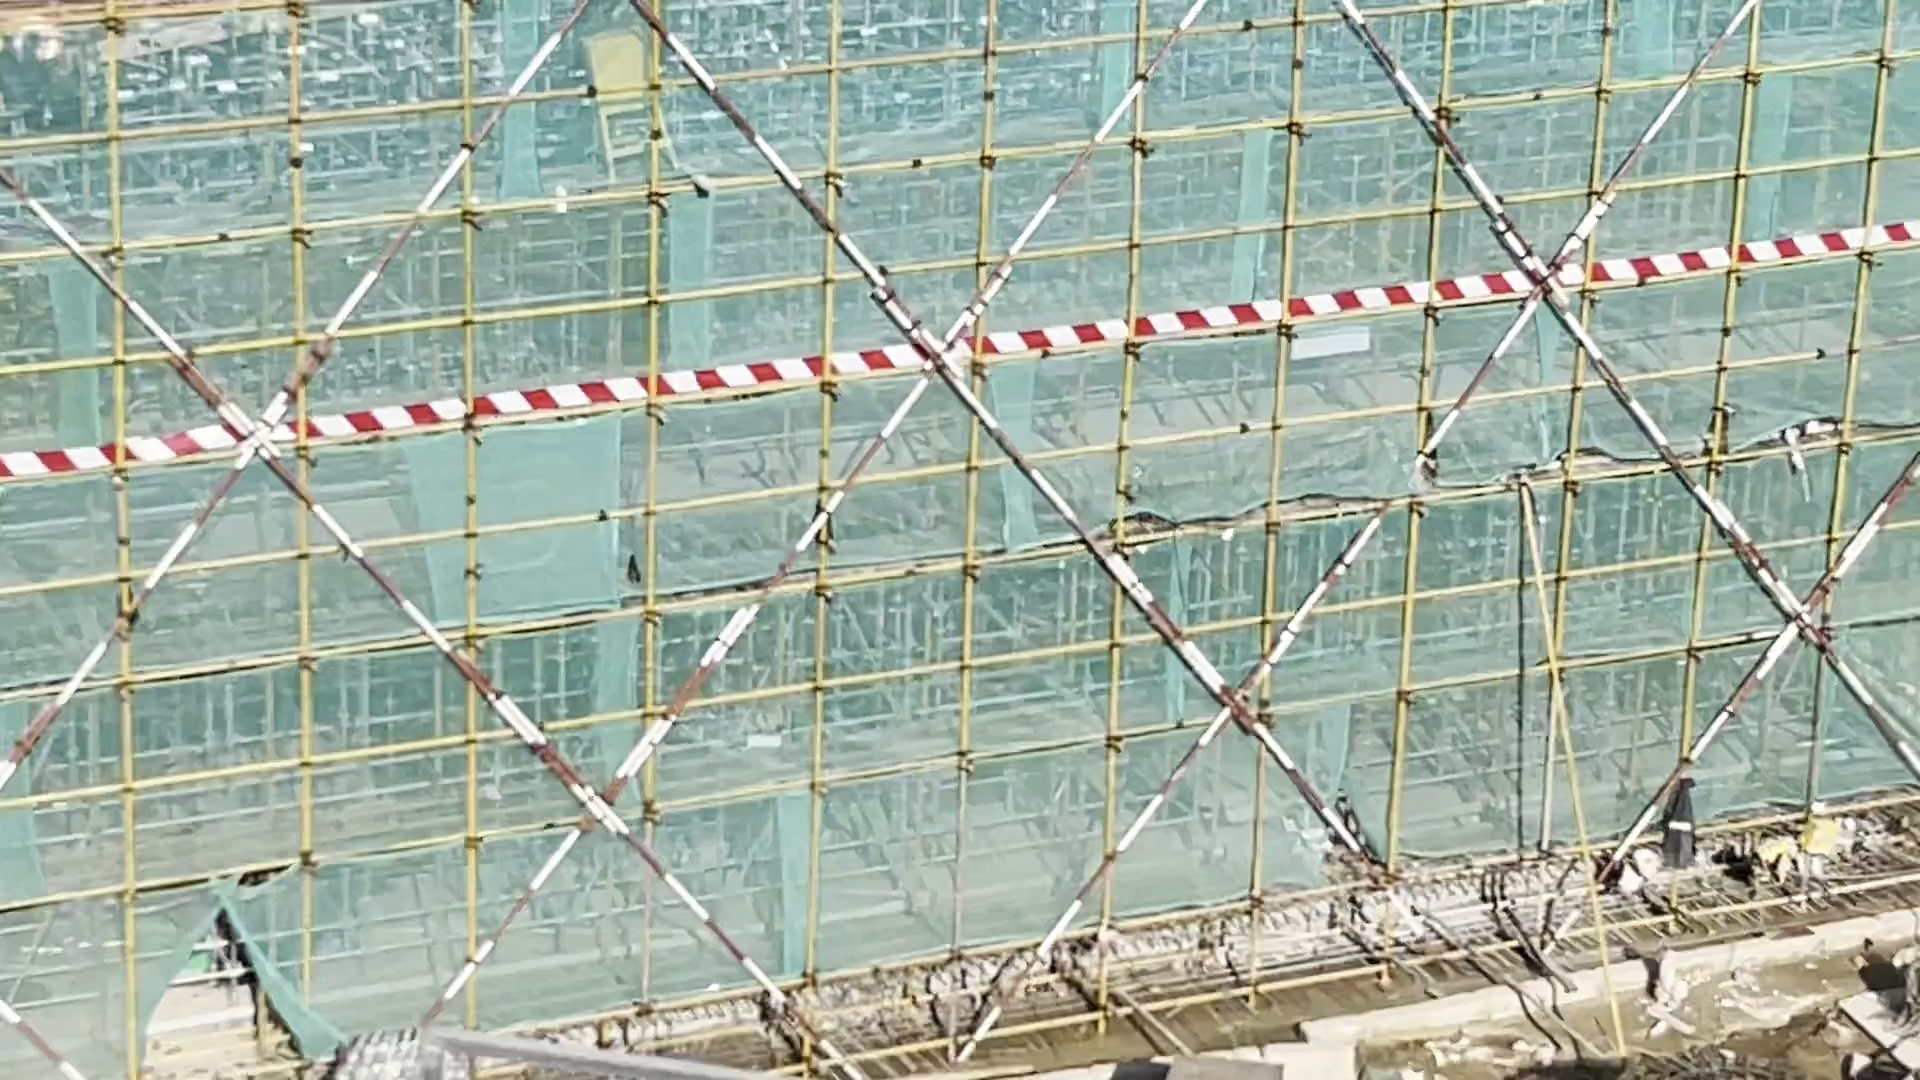ebox: (560, 26, 704, 179)
